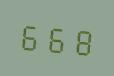eight: (69, 21, 93, 59)
six: (18, 16, 42, 54), (44, 18, 68, 56)
